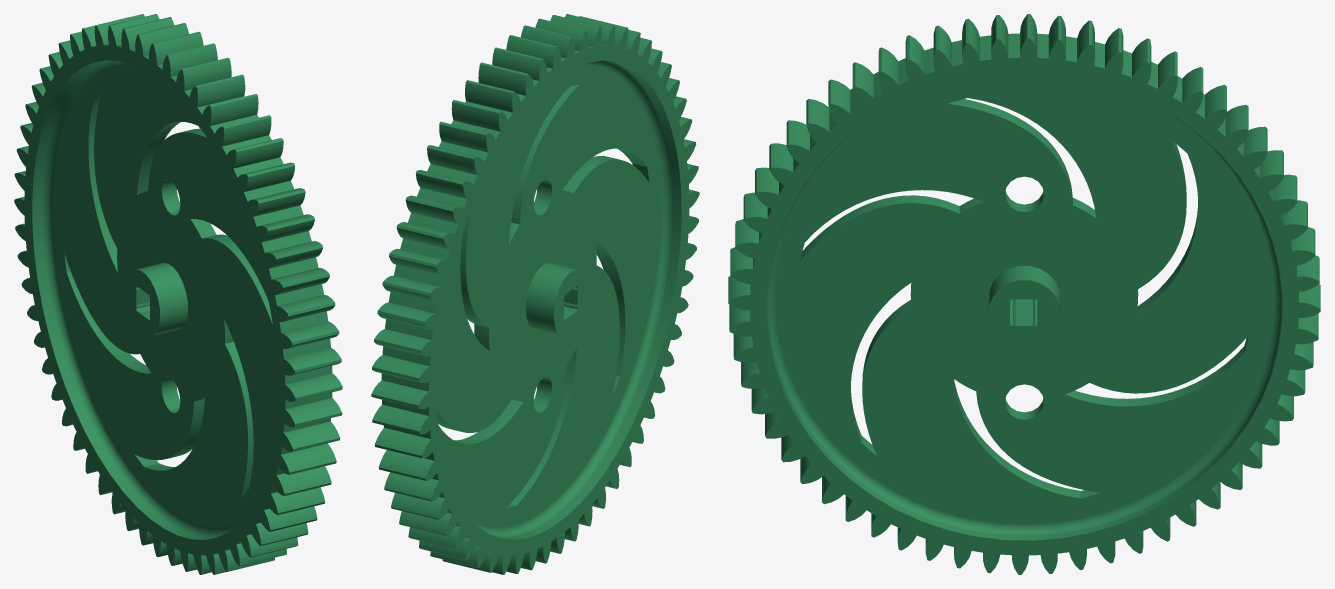
Rendered from 60T-Gear.glb.
3 renders of one model, left to right at view 1: azimuth 30°, elevation 25°; view 2: azimuth 150°, elevation 25°; view 3: azimuth 270°, elevation 25°, orthographic. The views are drawn at different scales.
Parts seen in each view (by area): view 1: Solid1; view 2: Solid1; view 3: Solid1.
Part boxes in pixels (left/top/right/bottom): Solid1: left=14, top=14, right=342, bottom=574; Solid1: left=371, top=14, right=699, bottom=574; Solid1: left=728, top=14, right=1320, bottom=574.
Size of the model in its own units: 0.00952 by 0.0656 by 0.0656.
